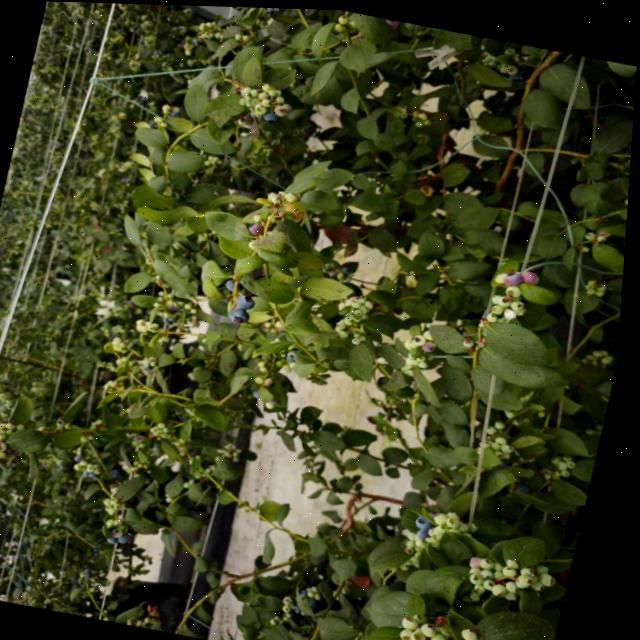RipeBlueBerry: (232, 304, 256, 323), (239, 290, 262, 308), (420, 511, 443, 527), (421, 524, 440, 539), (265, 109, 282, 121), (125, 531, 139, 543), (115, 534, 127, 543)
Semi-RipeBlueBerry: (504, 265, 529, 283), (525, 266, 546, 281), (250, 219, 269, 234), (424, 336, 444, 350)
UnripeBlueBerry: (427, 617, 448, 635), (408, 611, 430, 627), (469, 624, 491, 640), (507, 280, 528, 296), (451, 512, 470, 527), (438, 507, 456, 522), (419, 626, 438, 640), (498, 579, 517, 593), (524, 569, 543, 583), (509, 561, 527, 574), (501, 291, 518, 304), (487, 553, 504, 566), (438, 629, 457, 640), (487, 565, 504, 577), (477, 569, 493, 581), (275, 102, 291, 114), (254, 101, 270, 113), (515, 296, 529, 308), (419, 331, 432, 343), (263, 96, 275, 105)
